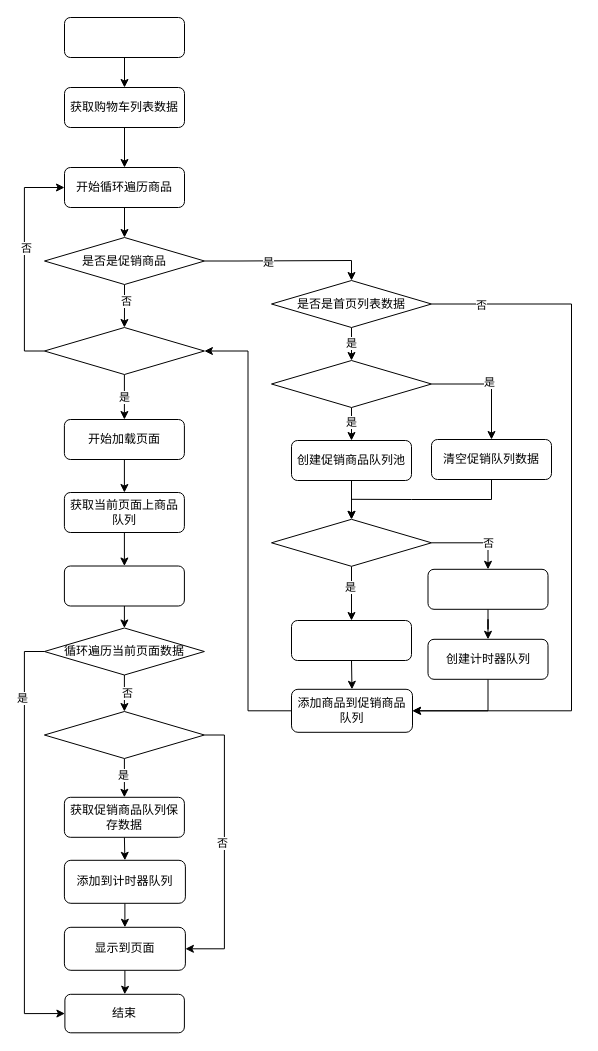
This 598x1051 diagram has some shape labels left out. The centre of each missing label's shape, as x and y in pixels:
创建并开启计时器: [487,588]
循环遍历是否结束: [123,350]
打开页面: [124,37]
是否存在促销商品队列？: [351,384]
是否存在计时器？: [351,542]
是否是促销商品？: [123,734]
清空计时器队列: [123,585]
重置计时器: [351,640]
